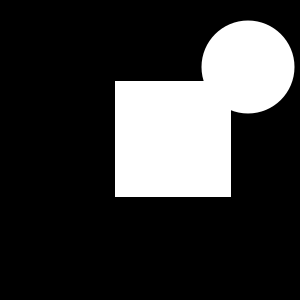circle: (115, 81, 231, 197), (231, 98, 239, 106)
rectangle: (202, 20, 294, 113)
